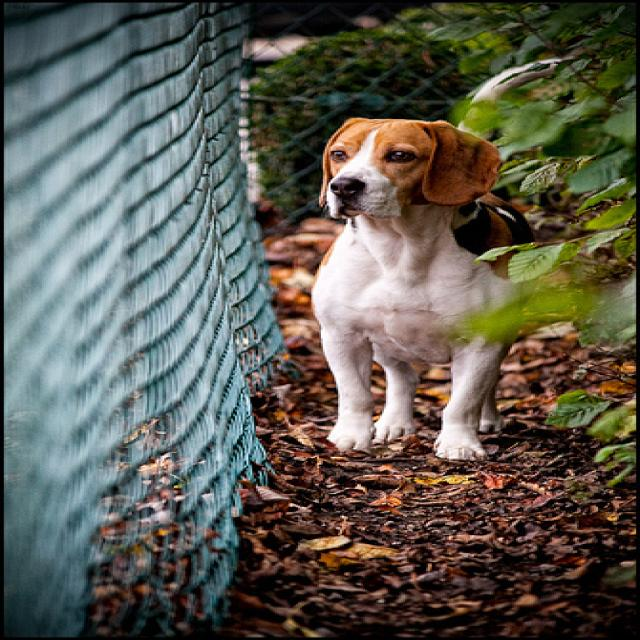dog-beagle: (296, 113, 533, 471)
